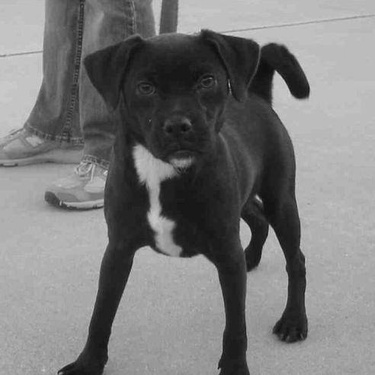dog: (49, 21, 318, 373)
